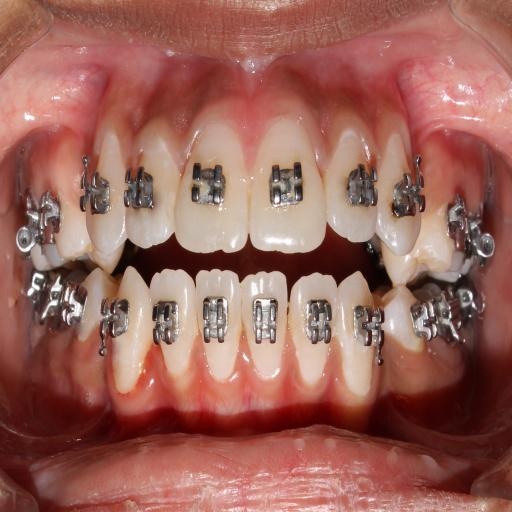correct_brace: (264, 152, 308, 217), (186, 156, 230, 218), (342, 155, 382, 217), (301, 294, 334, 360), (354, 300, 386, 368), (122, 159, 158, 217), (150, 296, 184, 355), (248, 296, 283, 350), (198, 292, 231, 348)
incorrect_brace: (323, 122, 381, 252), (122, 123, 178, 250), (290, 268, 336, 396), (150, 266, 196, 393)
